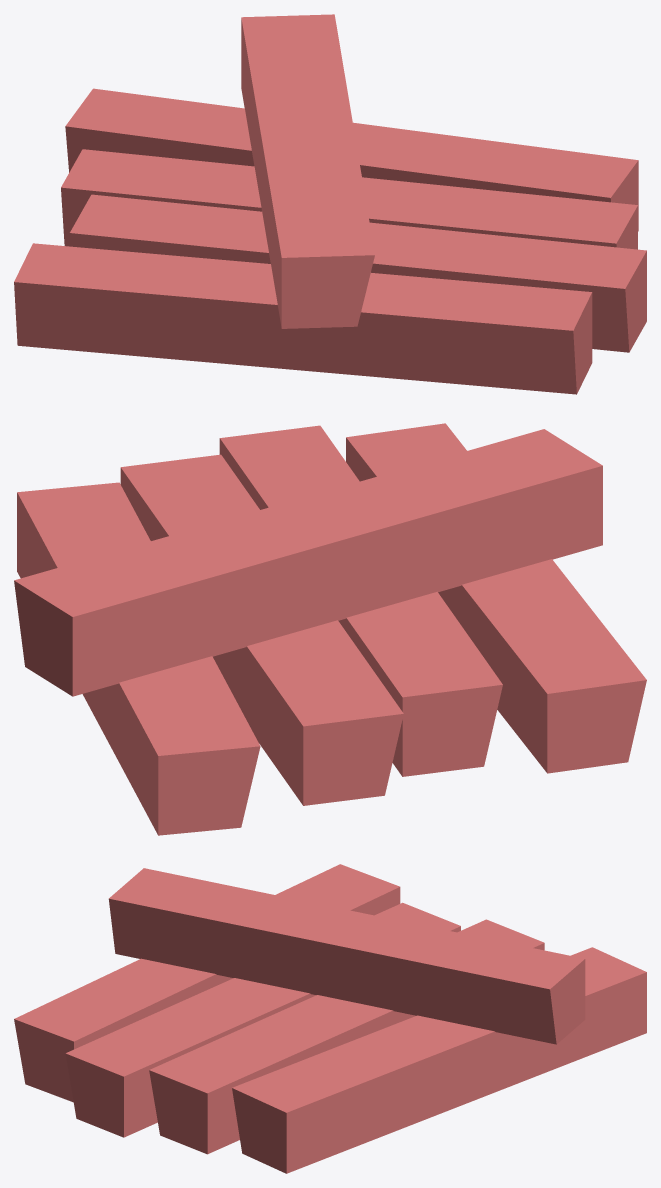
The model's file is small_wood_stack_02.fbx.
3 views of the same model, one above another, from view 1: azimuth 30°, elevation 25°; view 2: azimuth 150°, elevation 25°; view 3: azimuth 270°, elevation 25° (orthographic). The views are drawn at different scales.
Visible parts, largest first — view 1: small_plank_stack_02; view 2: small_plank_stack_02; view 3: small_plank_stack_02.
Part boxes in pixels (<box>): small_plank_stack_02: <box>14,14,646,394</box>; small_plank_stack_02: <box>14,423,646,835</box>; small_plank_stack_02: <box>14,864,646,1173</box>.
Size of the model in its own units: 143 by 32.52 by 154.
